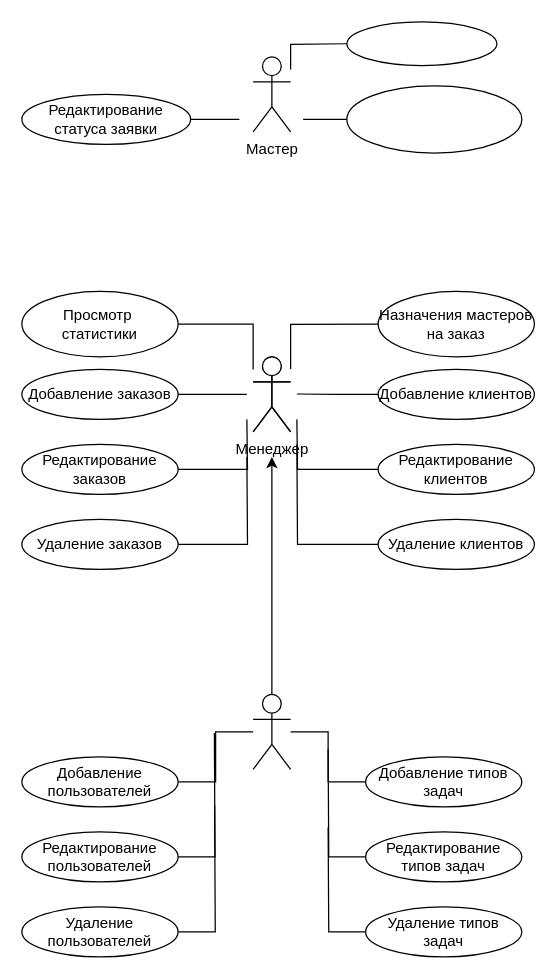
The diagram is 556 pixels wide and 979 high, and some of its shapes have lost their labels. Here are the shapes that lost their labels. From the top down, the centre of each, then its label:
At point 421,43: "Просмотр заявок".
At point 434,118: "Добавление комментария к заявке".
At point 271,731: "Администратор".
